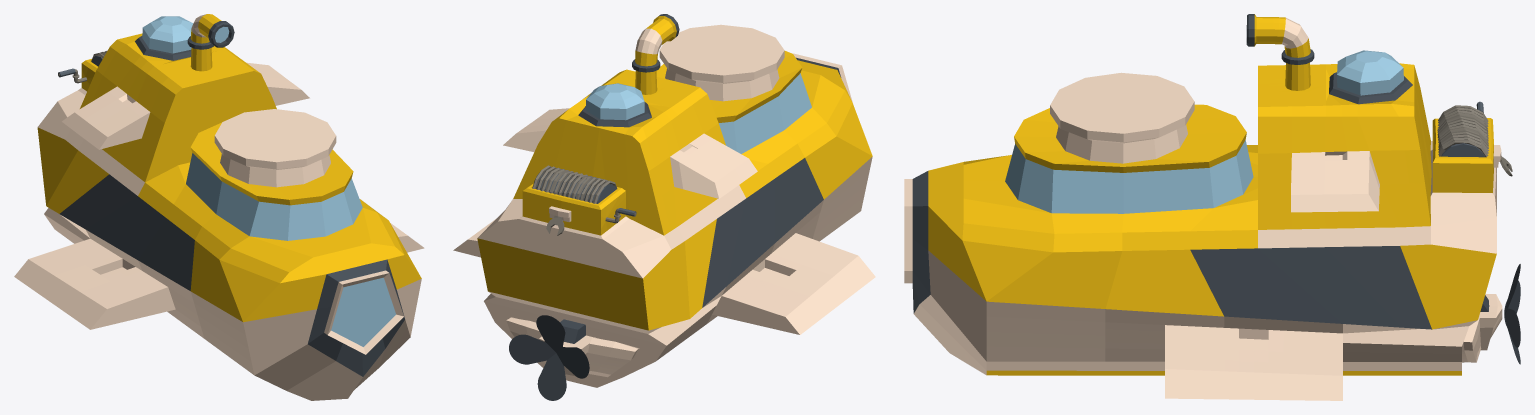
Rendered from submarine.glb.
3 views of the same model, side by side, from view 1: azimuth 30°, elevation 25°; view 2: azimuth 150°, elevation 25°; view 3: azimuth 270°, elevation 25° (orthographic). The views are drawn at different scales.
Visible parts, largest first — view 1: Cylinder.001; view 2: Cylinder.001; view 3: Cylinder.001.
Part boxes in pixels (left/top/right/bottom): Cylinder.001: left=14, top=14, right=424, bottom=400; Cylinder.001: left=453, top=14, right=875, bottom=400; Cylinder.001: left=904, top=14, right=1520, bottom=400.
Bounding box in the file's own units: 8.22 × 6.81 × 10.93.
